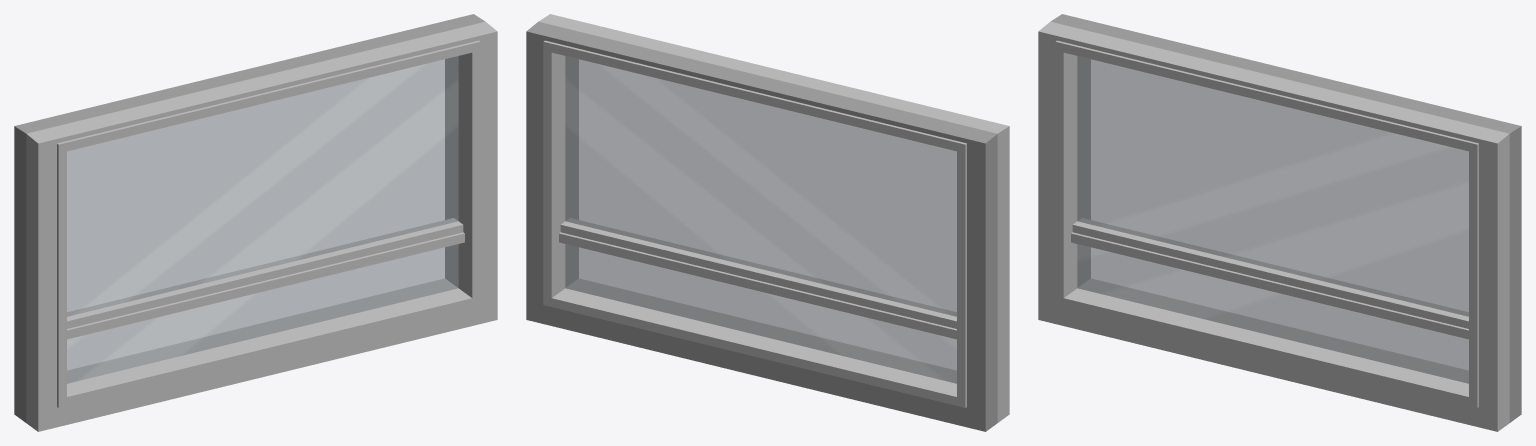
Rendered from SM_Bld_Base_Wall_Window_Half_01.fbx.
The picture shows the model from 3 angles, left to right: view 1: azimuth 30°, elevation 25°; view 2: azimuth 150°, elevation 25°; view 3: azimuth 330°, elevation 25°; orthographic projection.
Parts seen in each view (by area): view 1: SM_Bld_Base_Wall_Window_Half_01_Glass, SM_Bld_Base_Wall_Window_Half_01; view 2: SM_Bld_Base_Wall_Window_Half_01_Glass, SM_Bld_Base_Wall_Window_Half_01; view 3: SM_Bld_Base_Wall_Window_Half_01_Glass, SM_Bld_Base_Wall_Window_Half_01.
Part boxes in pixels (x1=…): SM_Bld_Base_Wall_Window_Half_01_Glass: x1=67, y1=56, x2=458, y2=383; SM_Bld_Base_Wall_Window_Half_01: x1=14, y1=14, x2=497, y2=431; SM_Bld_Base_Wall_Window_Half_01_Glass: x1=565, y1=56, x2=956, y2=383; SM_Bld_Base_Wall_Window_Half_01: x1=526, y1=14, x2=1009, y2=431; SM_Bld_Base_Wall_Window_Half_01_Glass: x1=1077, y1=56, x2=1468, y2=383; SM_Bld_Base_Wall_Window_Half_01: x1=1038, y1=14, x2=1521, y2=431.
Bounding box in the file's own units: 250 × 151 × 25.56.
